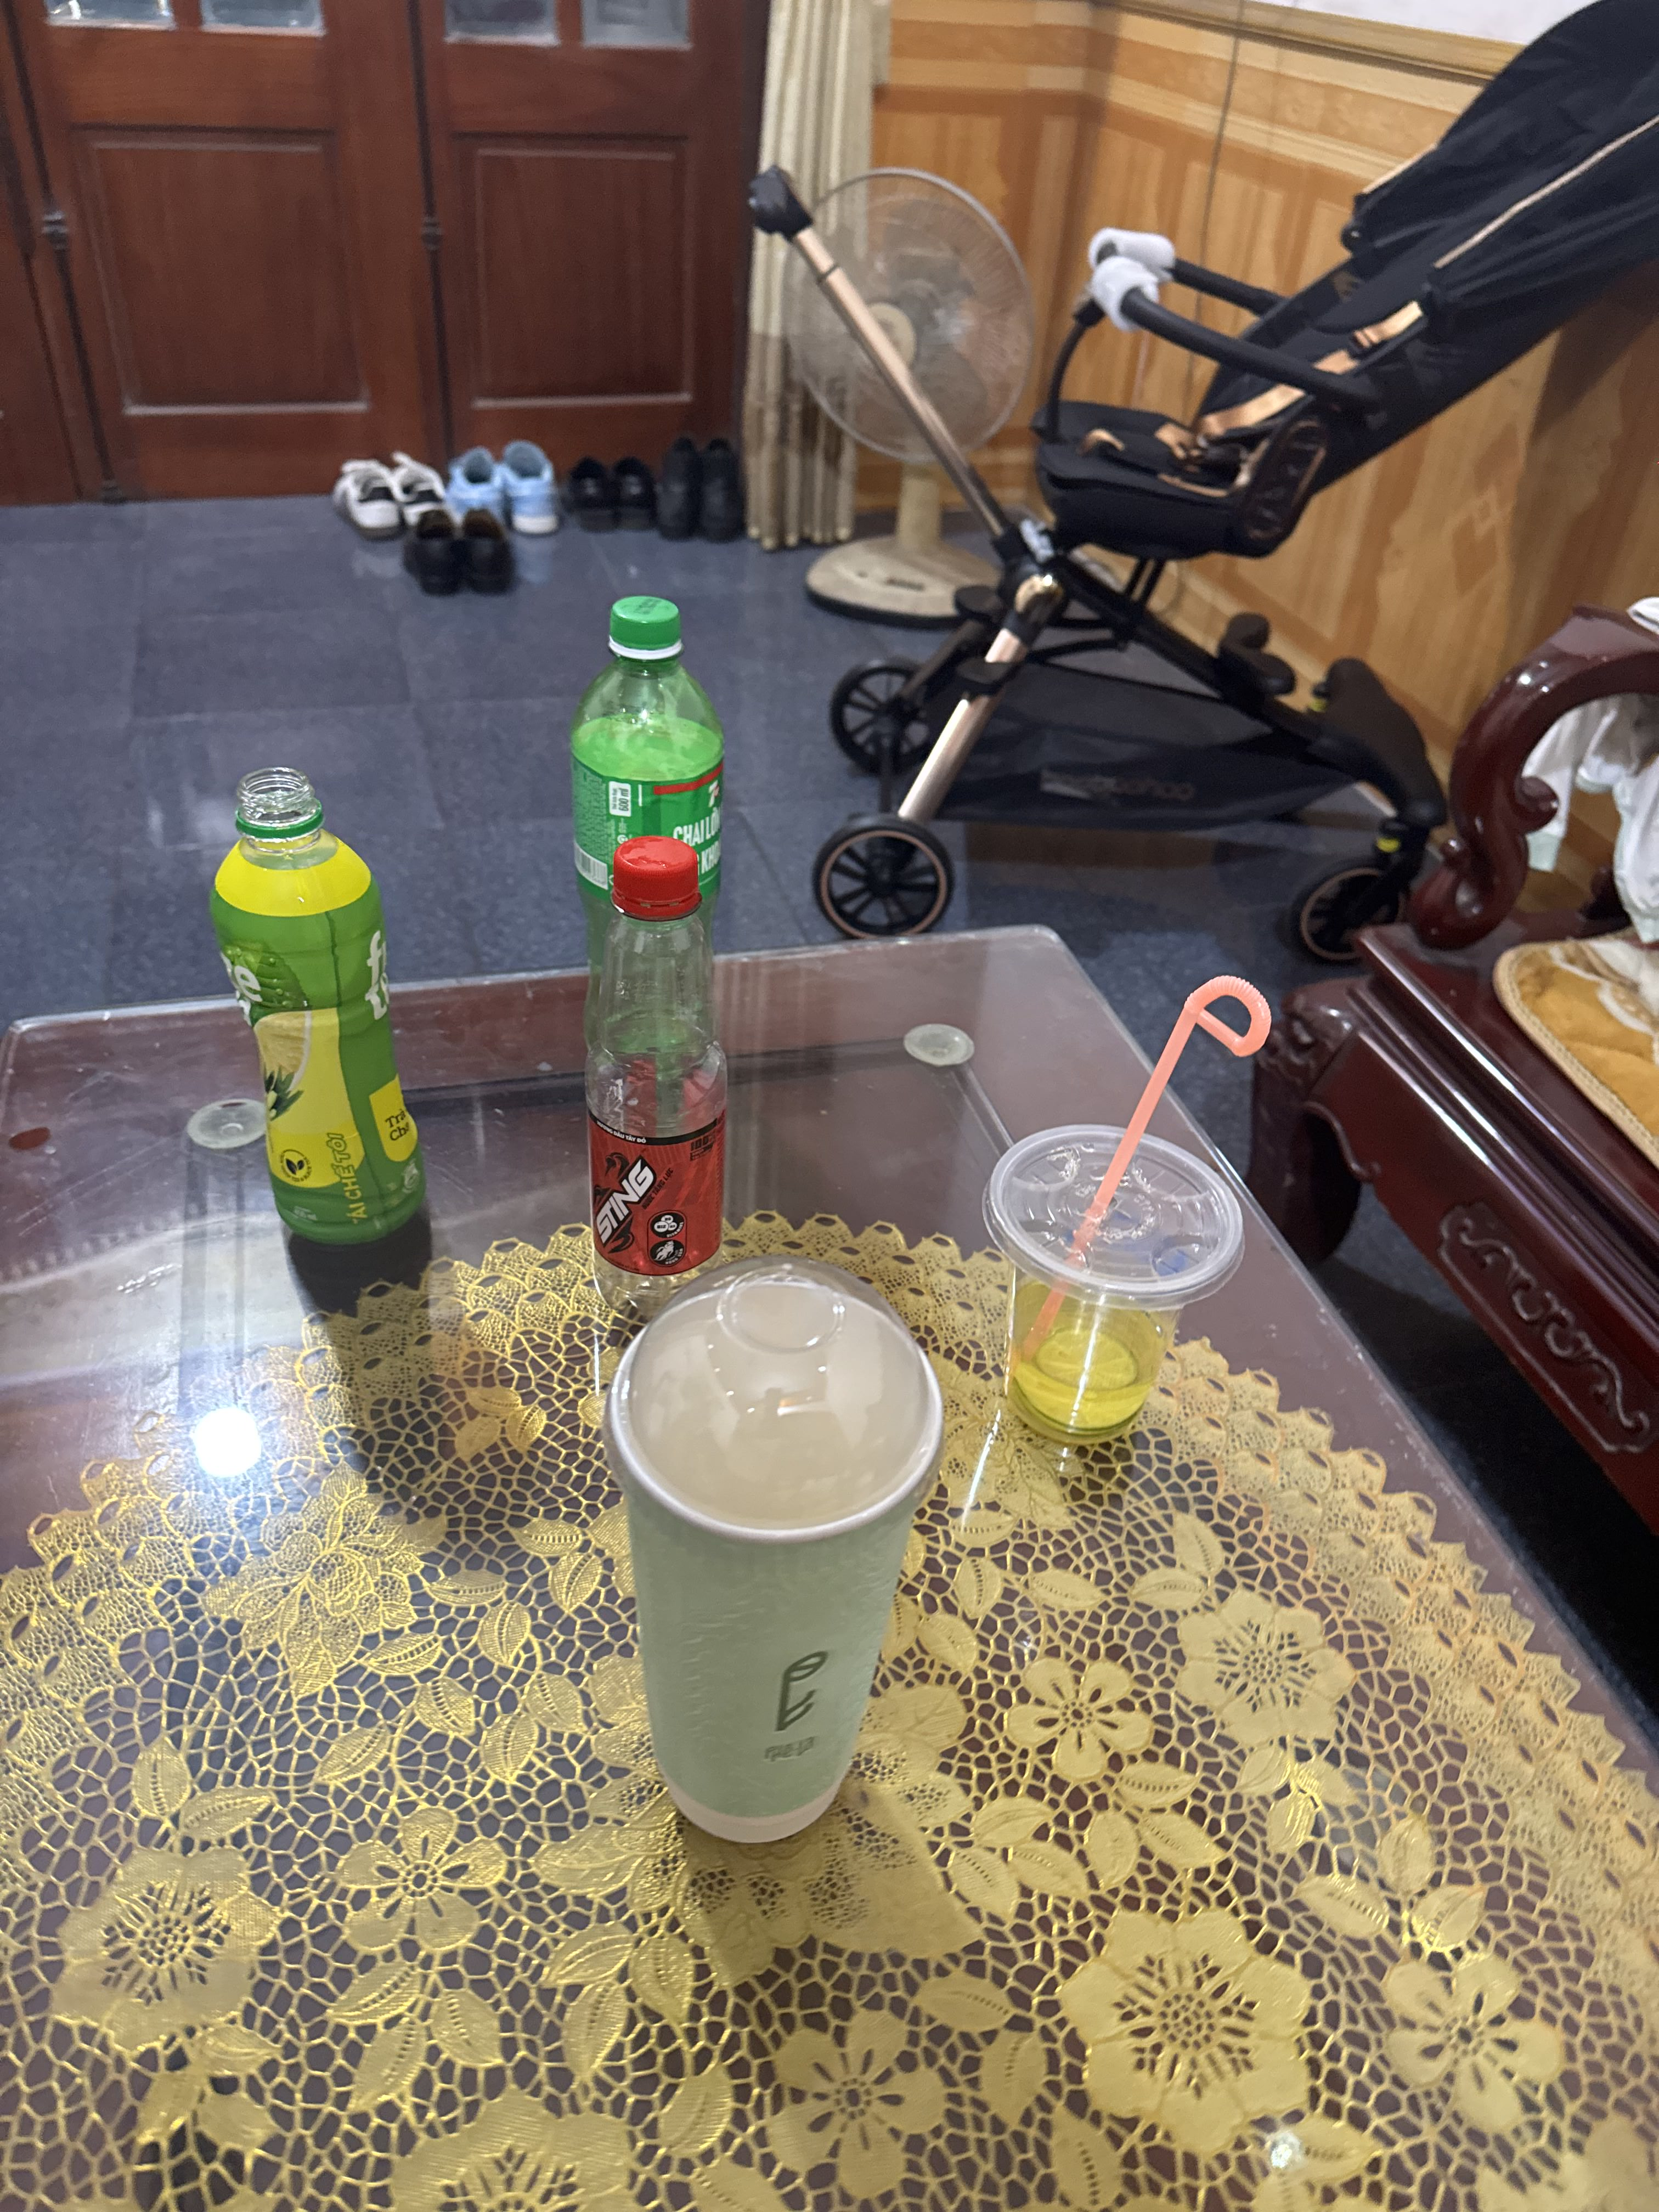2: (549, 1240, 969, 1907), (953, 1087, 1269, 1493)
bottle: (195, 742, 479, 1268), (516, 840, 769, 1332), (542, 575, 755, 1026)
